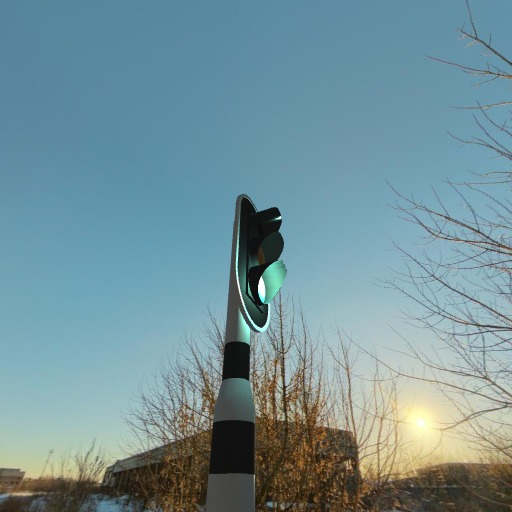Green_Light: (234, 189, 289, 333)
